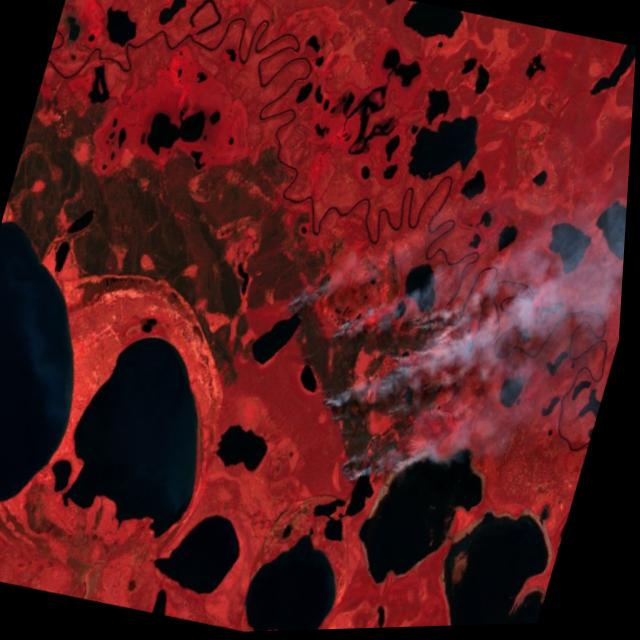fire: (238, 263, 489, 518)
